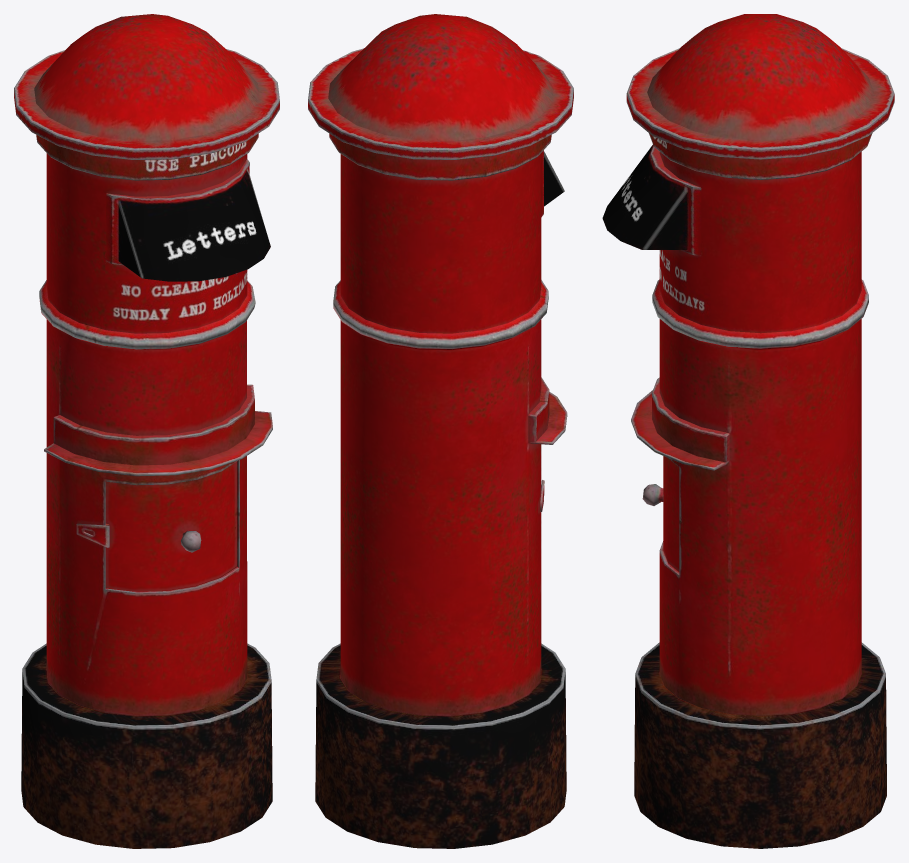
The model's file is st_postbox.glb.
3 views of the same model, side by side, from view 1: azimuth 30°, elevation 25°; view 2: azimuth 150°, elevation 25°; view 3: azimuth 270°, elevation 25° (orthographic).
Visible parts, largest first — view 1: defaultMaterial; view 2: defaultMaterial; view 3: defaultMaterial.
Boxes of the visible parts, x1,y1,x2,y2 form: defaultMaterial: (14,14,279,848); defaultMaterial: (308,14,573,848); defaultMaterial: (602,14,894,848).
Size of the model in its own units: 0.6275 by 2 by 0.6847.
Materials: 1 (1 with a texture image).
